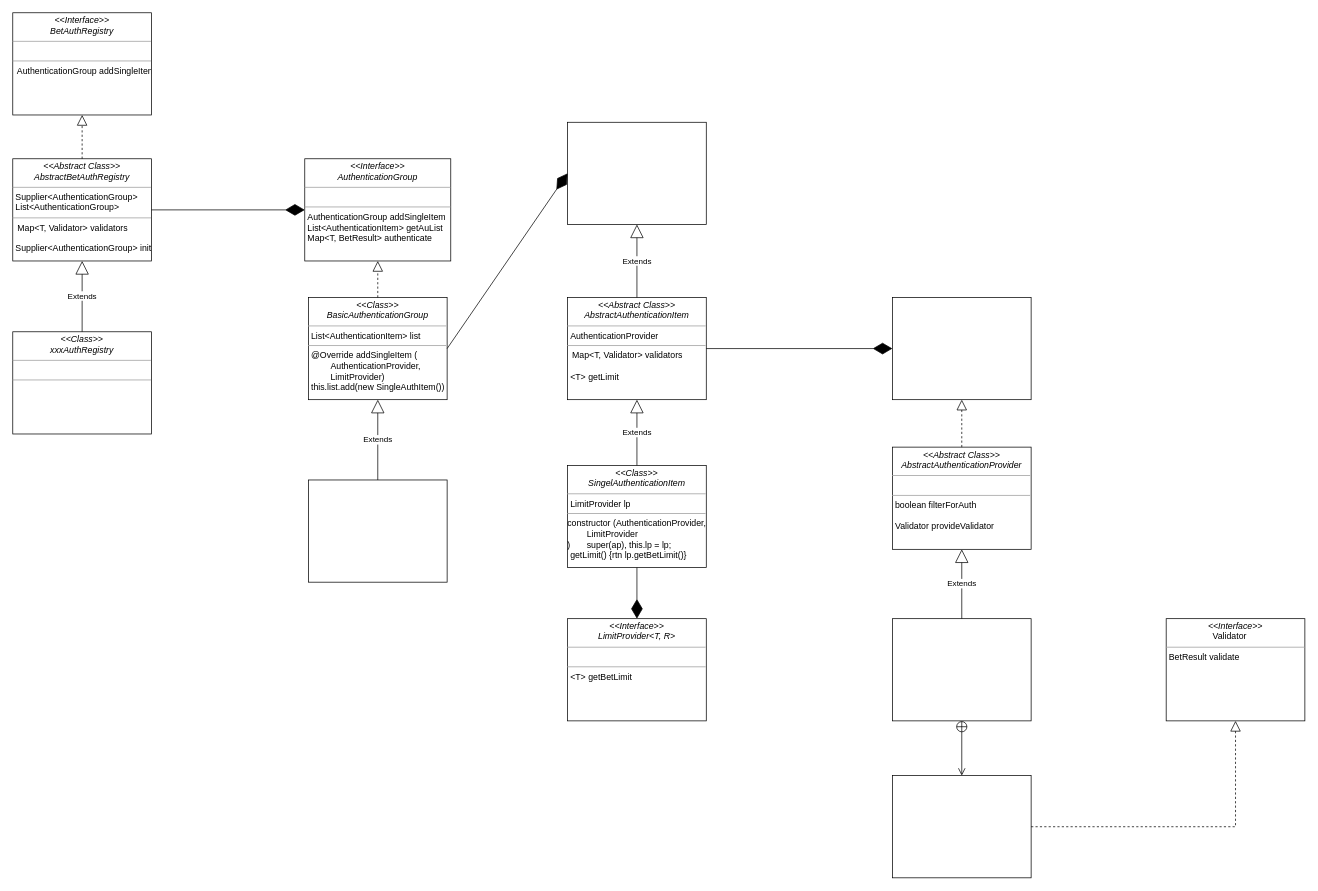
This 1318x891 diagram has some shape labels left out. The shapes that lost their labels are listed below. From the top down, each one's centre as x and y in pixels, then its label:
[636,173]: <<Abstract Class>> AuthenticationItem Map<T, Validator> validators
[961,348]: <<Interface>> AuthenticationProvider Validator provide
[377,530]: <<Class>> BetAuthenticationGroup
[961,669]: <<Class>> XXXAuth
[961,826]: <<Class>> XXXValidator BetResult validate
